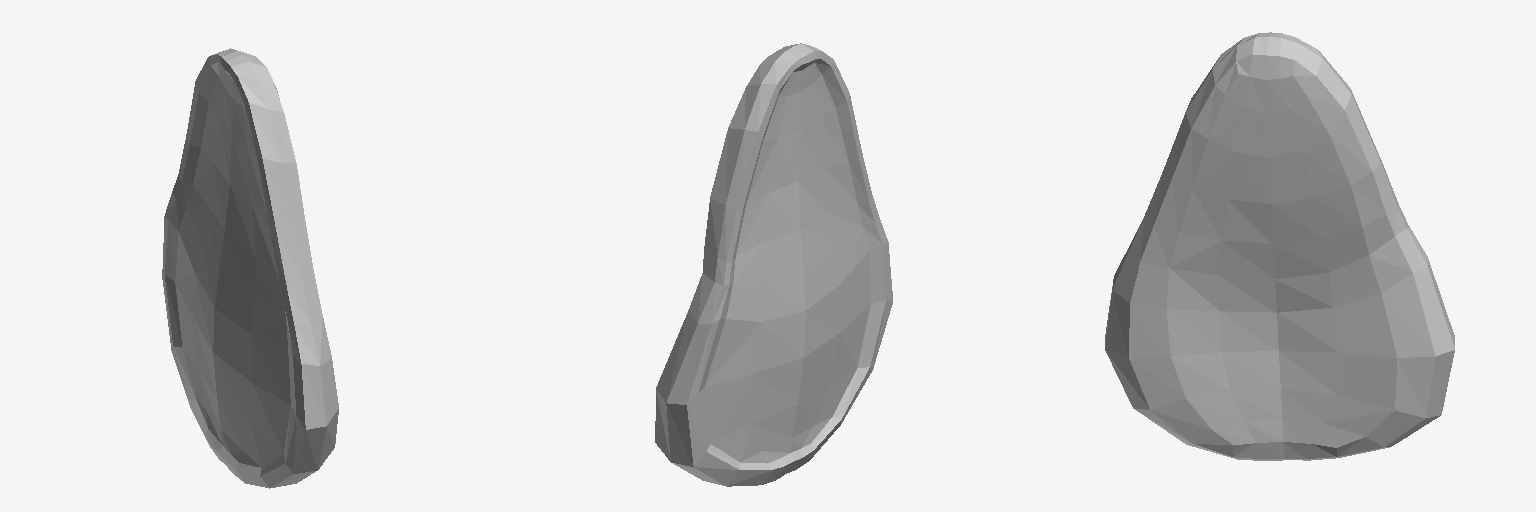
The model's file is CLOCKjjjjjjjjjjjjjjjjj.OBJ.
3 views of the same model, side by side, from view 1: azimuth 30°, elevation 25°; view 2: azimuth 150°, elevation 25°; view 3: azimuth 270°, elevation 25° (orthographic).
Parts seen in each view (by area): view 1: Group2; view 2: Group2; view 3: Group2.
Part boxes in pixels (x1,y1,x2,y2): Group2: (162,48,338,488); Group2: (655,43,892,486); Group2: (1105,32,1454,460).
Bounding box in the file's own units: 0.3317 × 1.68 × 1.27.